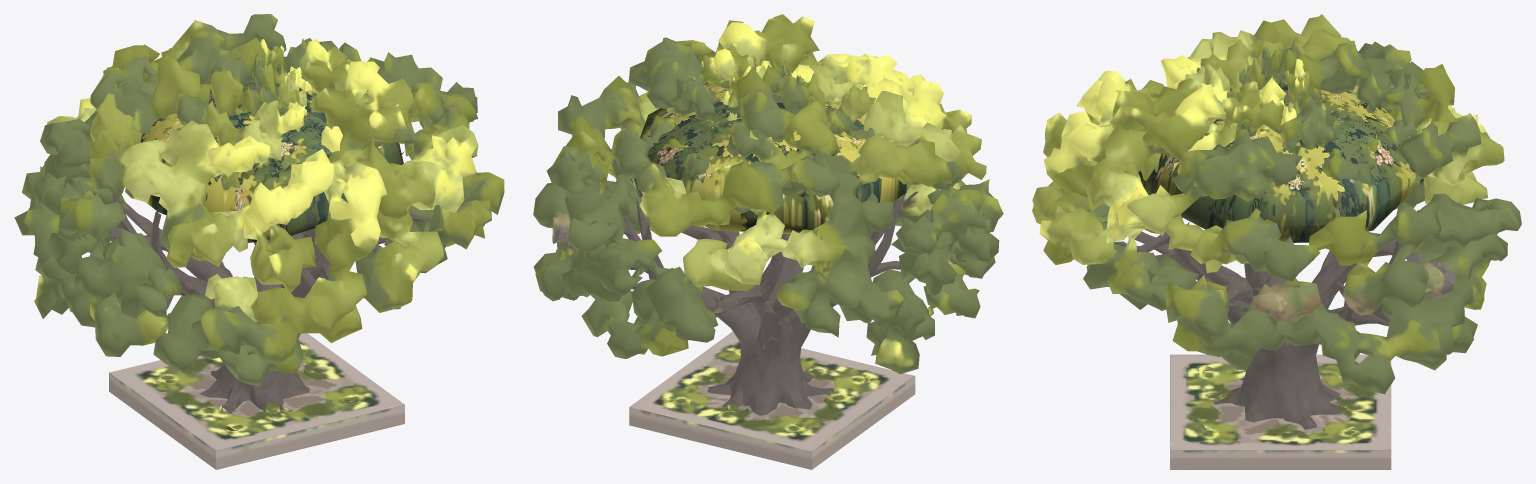
File: tree_banyan.glb
3 views of the same model, side by side, from view 1: azimuth 30°, elevation 25°; view 2: azimuth 150°, elevation 25°; view 3: azimuth 270°, elevation 25° (orthographic). The views are drawn at different scales.
Parts seen in each view (by area): view 1: body, canopy; view 2: body, canopy; view 3: body, canopy.
Part boxes in pixels (x1=…): body: x1=14, y1=14, x2=504, y2=469; canopy: x1=140, y1=73, x2=403, y2=242; body: x1=533, y1=14, x2=1003, y2=469; canopy: x1=631, y1=82, x2=906, y2=234; body: x1=1032, y1=14, x2=1521, y2=469; canopy: x1=1138, y1=81, x2=1423, y2=242.
Bounding box in the file's own units: 11.87 × 9.47 × 11.26.
2 materials, 2 textured.
